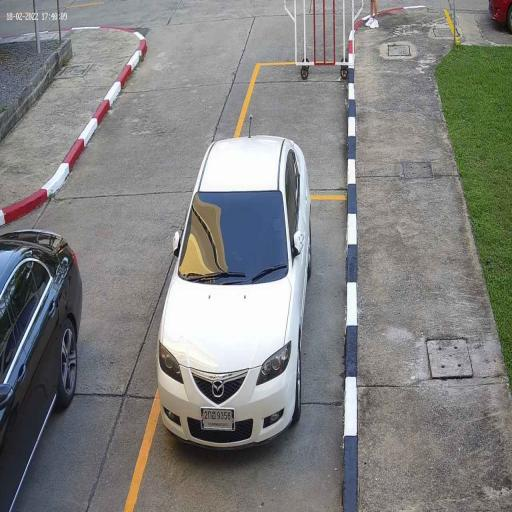car: (156, 132, 312, 450), (0, 227, 85, 512)
